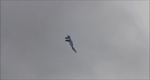maybay_muctieu: (63, 33, 79, 55)
